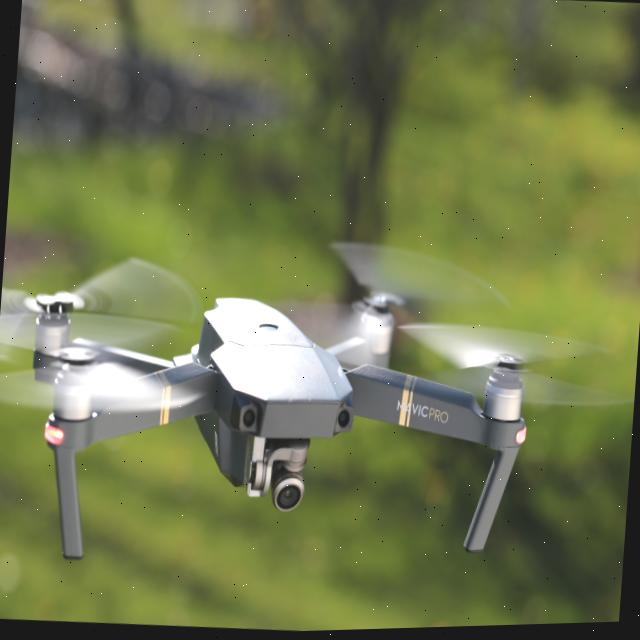drone: (0, 212, 599, 593)
